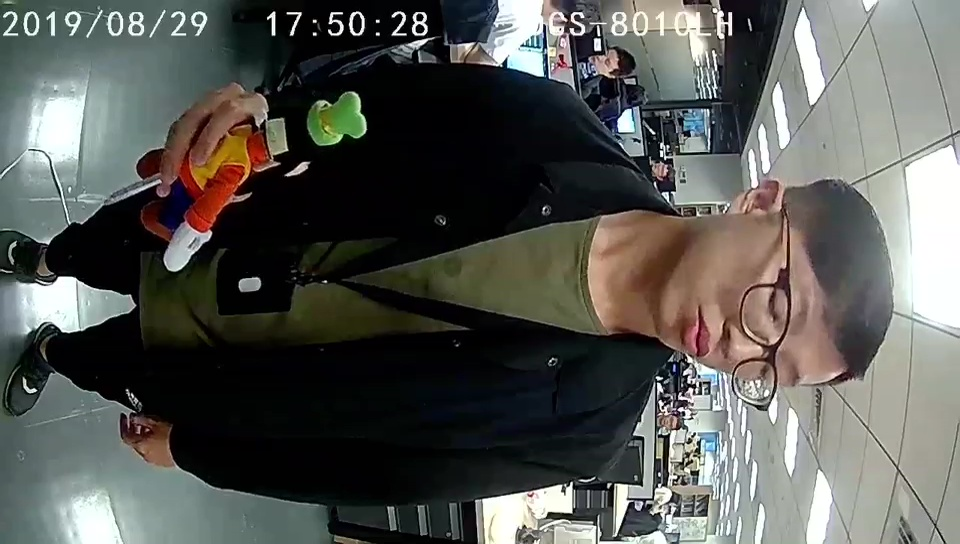goofy: (135, 90, 368, 274)
